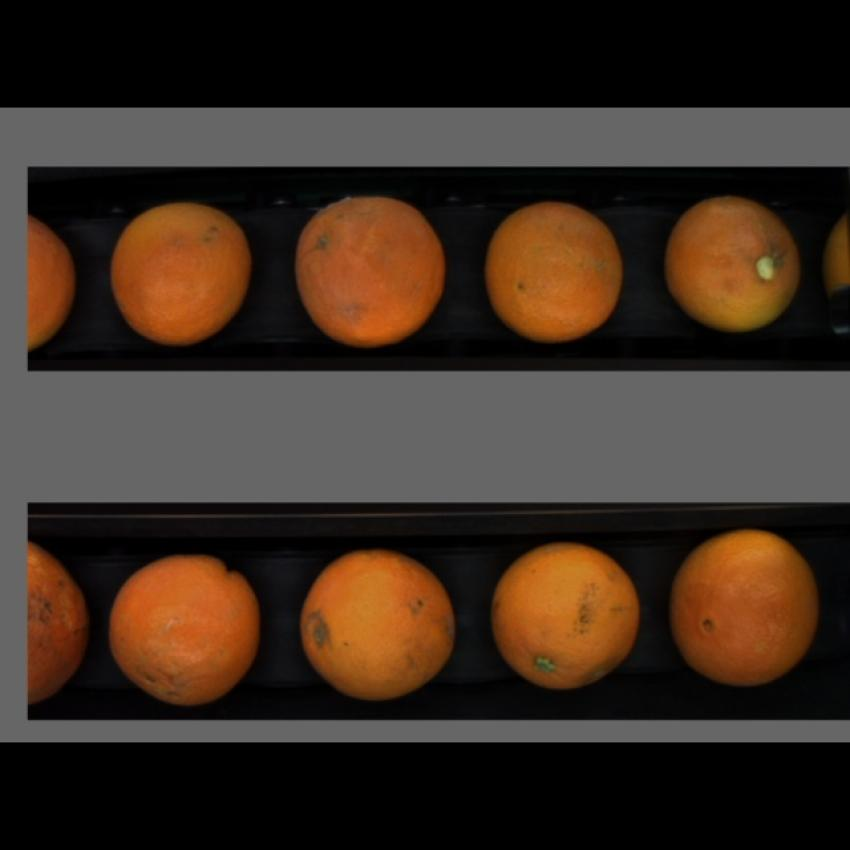Buen estado: (664, 520, 831, 695), (108, 198, 254, 347), (29, 209, 77, 352)
Mal estado: (106, 549, 283, 709), (485, 531, 645, 699), (292, 186, 452, 349), (297, 547, 464, 703), (480, 188, 626, 348), (659, 190, 808, 338), (30, 544, 91, 707)
